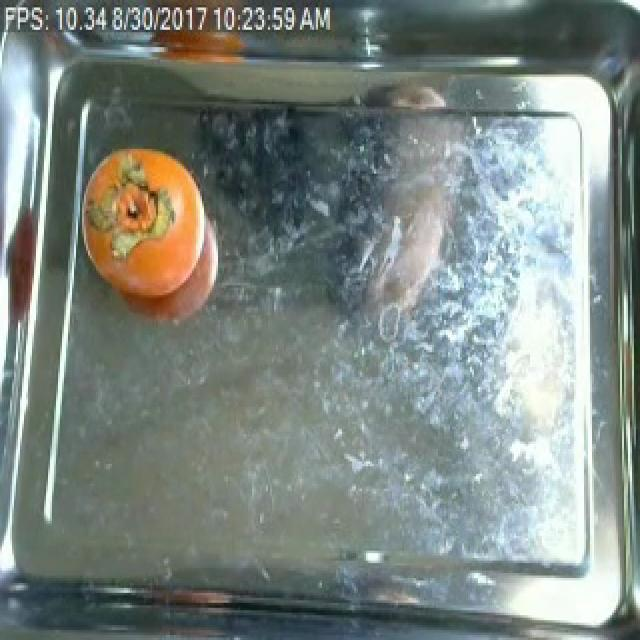Fruit: (80, 141, 200, 310)
